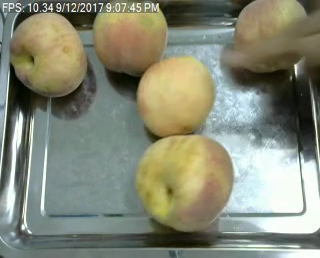Peach: (135, 132, 234, 231), (8, 11, 89, 97), (136, 56, 214, 136), (95, 0, 169, 71), (234, 0, 312, 35)
